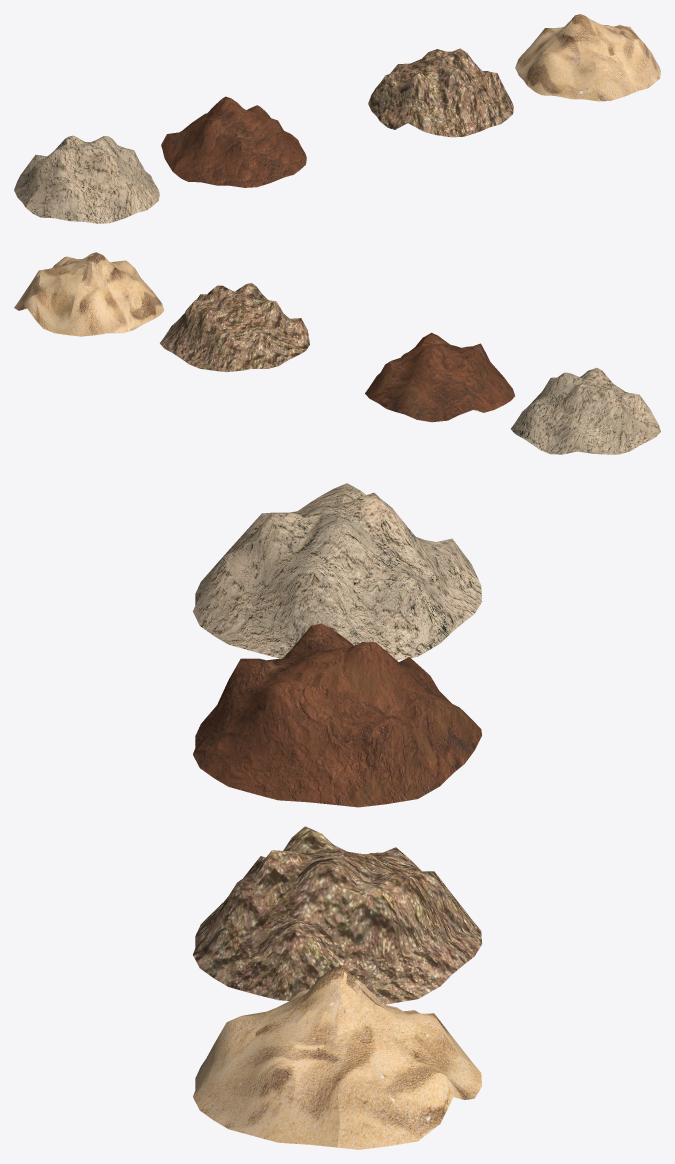
File: Soil Piles.fbx
3 renders of one model, top to bottom at view 1: azimuth 30°, elevation 25°; view 2: azimuth 150°, elevation 25°; view 3: azimuth 270°, elevation 25°, orthographic. The views are drawn at different scales.
Visible parts, largest first — view 1: Pile of silt, Pile of Peat, Pile of sand, Pile of Clay; view 2: Pile of Peat, Pile of silt, Pile of sand, Pile of Clay; view 3: Pile of Clay, Pile of sand, Pile of Peat, Pile of silt.
Boxes of the visible parts, x1,y1,x2,y2 form: Pile of silt: (14, 135, 159, 223); Pile of Peat: (368, 48, 513, 137); Pile of sand: (515, 14, 660, 101); Pile of Clay: (161, 96, 306, 187); Pile of Peat: (160, 283, 309, 372); Pile of silt: (511, 367, 660, 454); Pile of sand: (14, 252, 164, 336); Pile of Clay: (365, 332, 514, 422); Pile of Clay: (193, 623, 481, 807); Pile of sand: (193, 965, 481, 1149); Pile of Peat: (193, 826, 482, 1004); Pile of silt: (193, 483, 482, 660).
Bounding box in the file's own units: 1228 × 109 × 247.
Materials: 1 (1 with a texture image).
